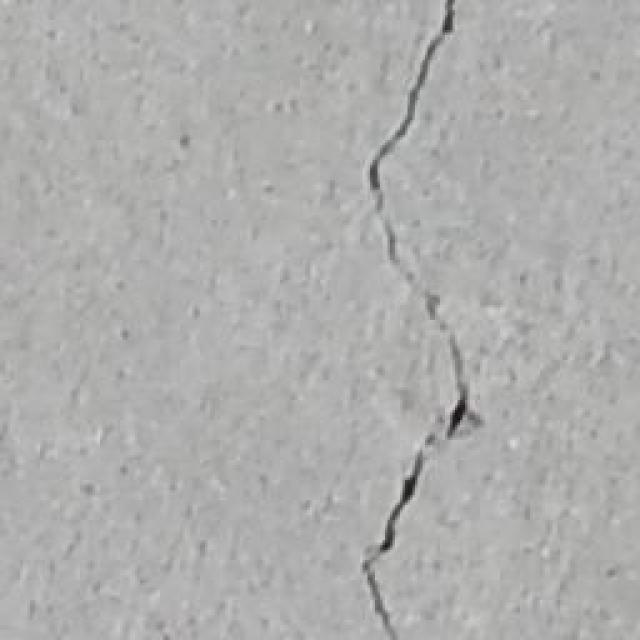concrete-crack: (354, 0, 474, 635)
